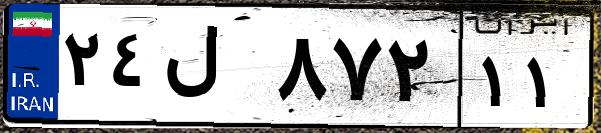1: (475, 38, 525, 113), (525, 38, 570, 115)
2: (385, 28, 445, 110), (57, 26, 110, 100)
4: (110, 28, 158, 98)
7: (330, 28, 385, 110)
8: (270, 28, 330, 110)
ل: (158, 20, 270, 120)
